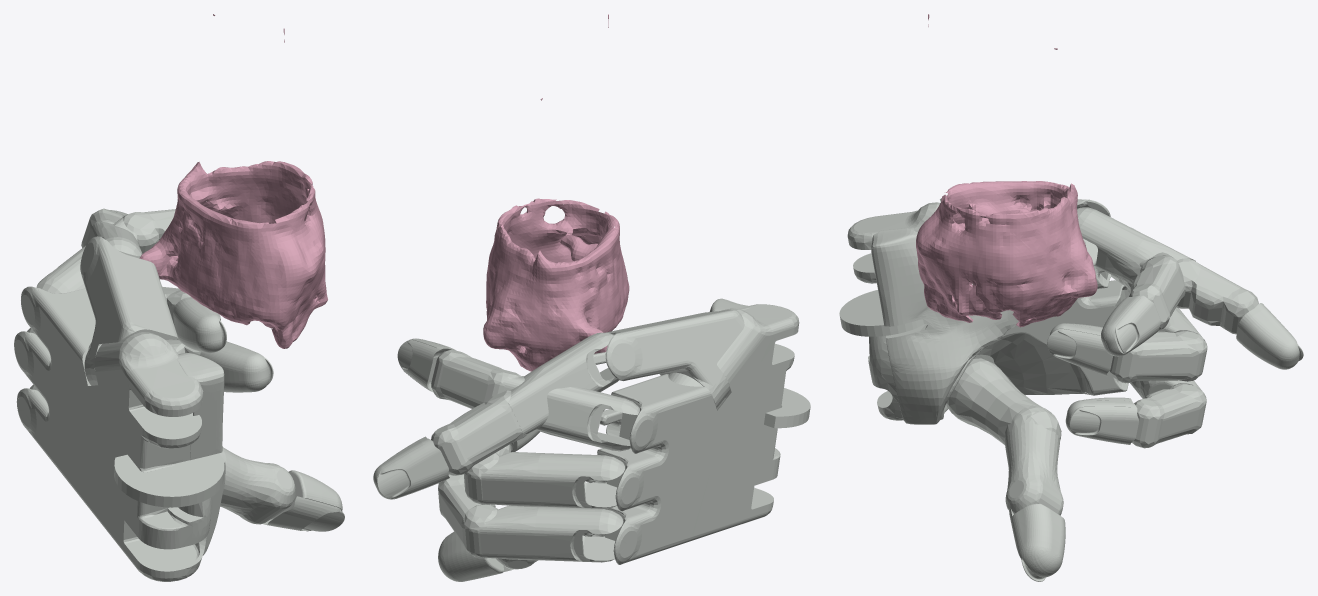
3 renders of one model, left to right at view 1: azimuth 30°, elevation 25°; view 2: azimuth 150°, elevation 25°; view 3: azimuth 270°, elevation 25°, orthographic. The views are drawn at different scales.
Parts seen in each view (by area): view 1: hand, world; view 2: hand, world; view 3: hand, world.
Part boxes in pixels (x1=…): hand: x1=14, y1=208, x2=344, y2=581; world: x1=139, y1=14, x2=327, y2=348; hand: x1=373, y1=298, x2=810, y2=581; world: x1=483, y1=14, x2=629, y2=371; hand: x1=839, y1=198, x2=1303, y2=581; world: x1=916, y1=14, x2=1097, y2=327.
Size of the model in its own units: 0.1227 by 0.2242 by 0.1807.
